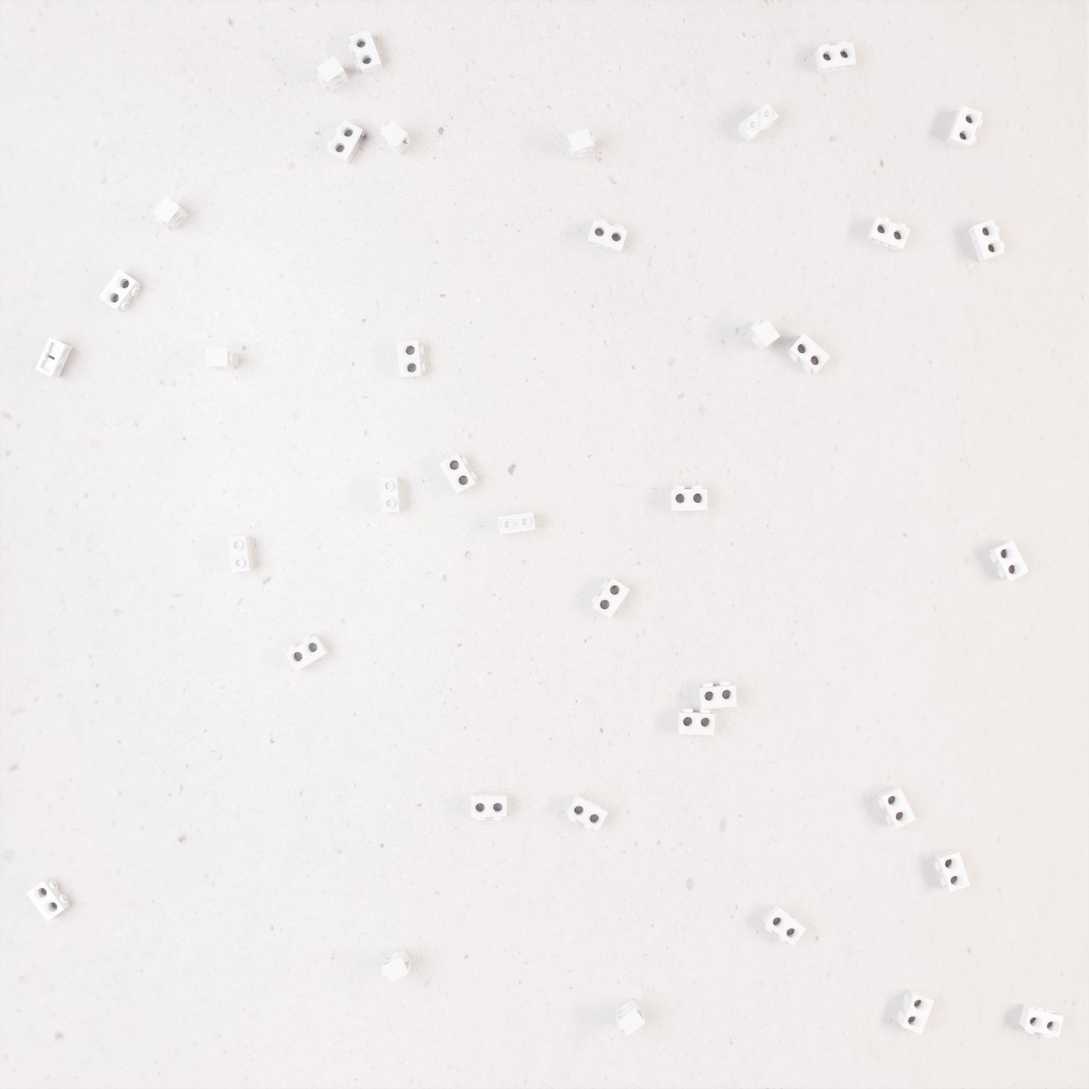lego: (26, 877, 70, 922), (98, 269, 141, 312), (763, 903, 806, 946), (787, 333, 831, 374), (327, 119, 365, 165), (737, 102, 779, 143), (877, 785, 916, 829), (285, 634, 329, 672), (946, 105, 983, 150), (897, 989, 934, 1034), (989, 540, 1029, 581), (591, 577, 630, 619), (968, 219, 1005, 263), (439, 453, 477, 495), (866, 216, 910, 252), (1019, 1003, 1064, 1038), (348, 30, 383, 75), (567, 793, 608, 831), (35, 337, 72, 379), (934, 849, 970, 892), (587, 219, 628, 254), (815, 41, 856, 74), (316, 55, 349, 93), (153, 196, 188, 231), (380, 119, 411, 156), (698, 681, 737, 710), (616, 998, 645, 1036), (397, 340, 425, 379), (381, 948, 412, 983), (677, 708, 715, 735), (748, 319, 780, 351), (471, 793, 507, 820), (567, 128, 596, 161), (228, 535, 253, 573), (670, 486, 707, 511), (498, 512, 535, 535), (379, 476, 401, 514), (206, 348, 238, 370)
